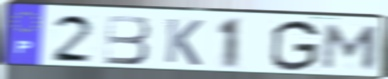1: (216, 16, 247, 71)
2: (48, 13, 97, 64)
B: (104, 14, 153, 66)
G: (269, 18, 322, 73)
K: (163, 17, 205, 68)
M: (318, 22, 382, 71)
